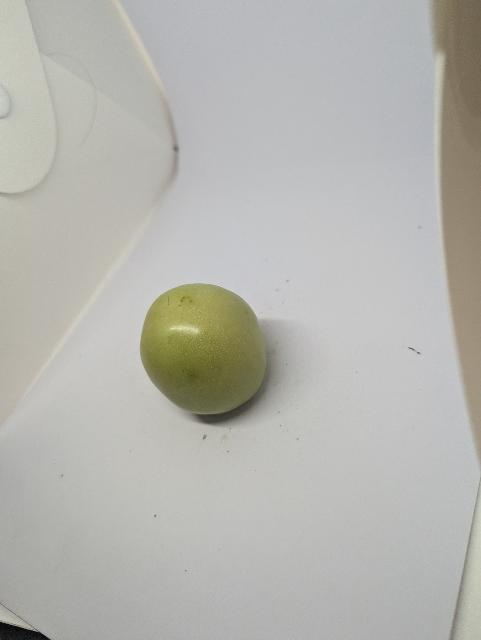green: (136, 280, 270, 416)
